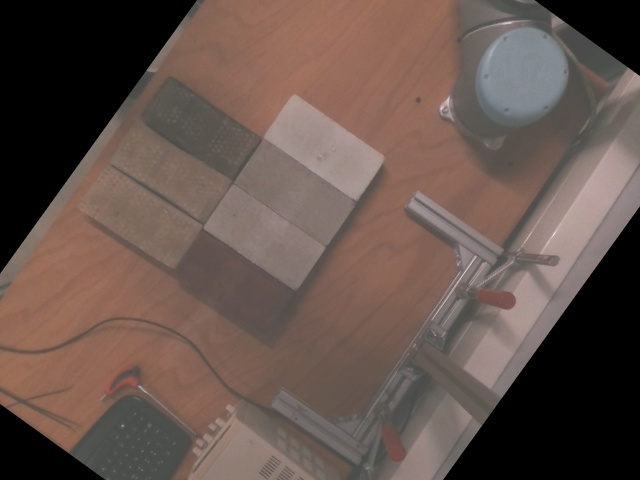brick: (262, 95, 383, 200), (231, 140, 352, 245), (201, 184, 322, 289), (106, 118, 227, 223), (76, 163, 196, 268)
